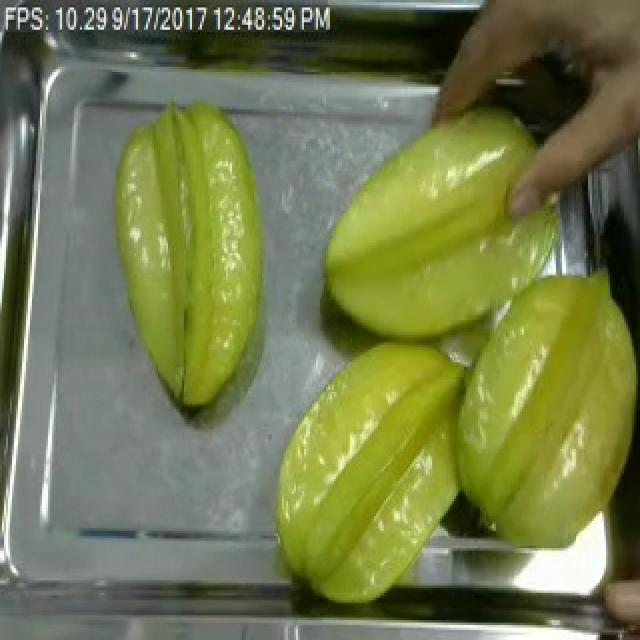fruit: (306, 84, 578, 365), (428, 250, 640, 566), (258, 328, 480, 616), (104, 89, 280, 427)
